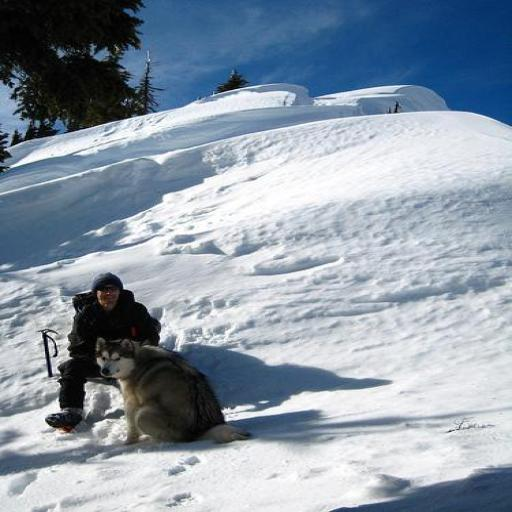dog_face: (88, 336, 136, 380)
